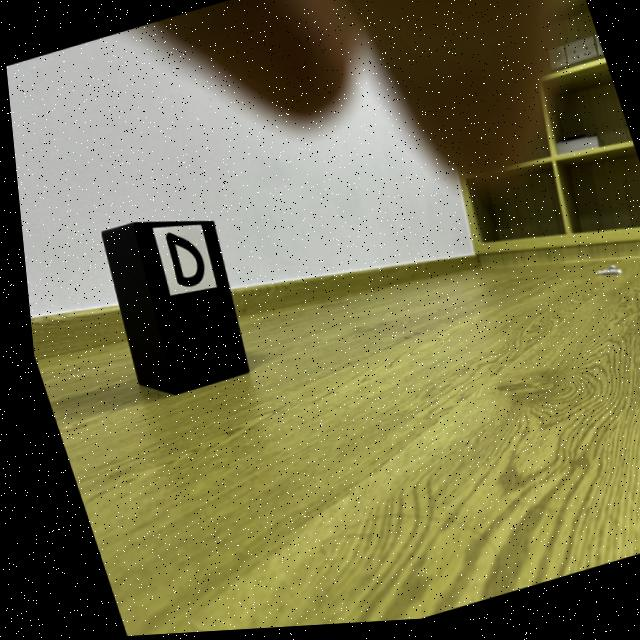D: (161, 233, 199, 289)
